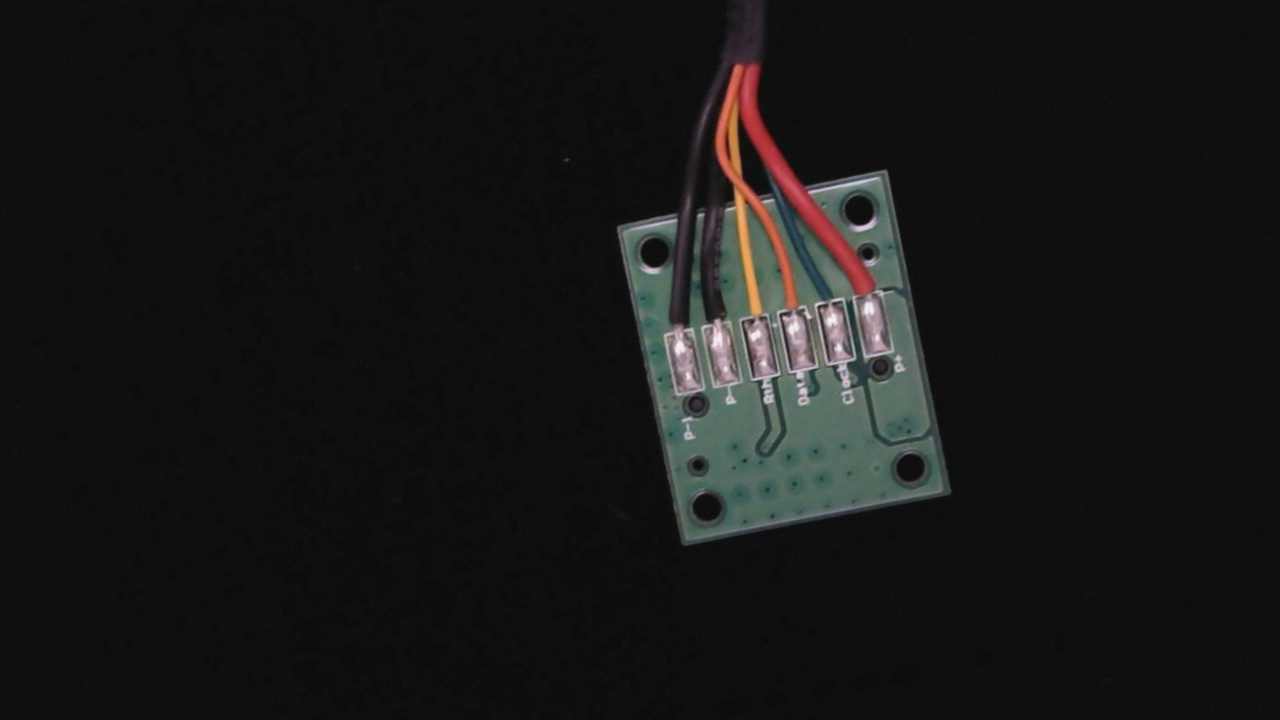Black: (689, 267, 734, 339)
Black1: (652, 280, 695, 348)
Green: (805, 258, 847, 322)
Orange: (766, 253, 810, 327)
Red: (842, 249, 886, 313)
Yellow: (726, 261, 775, 334)
